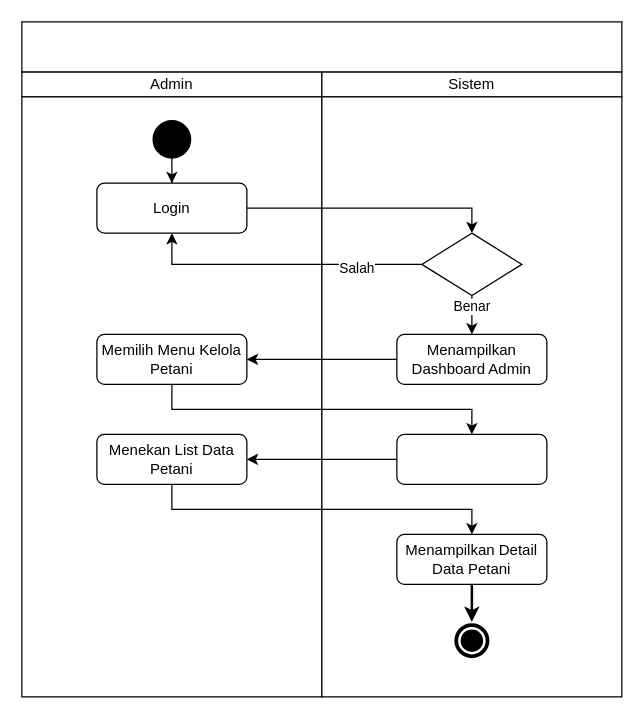
This 644x719 diagram has some shape labels left out. The shapes that lost their labels are listed below. From the top down, each one's box as (x1, y1, x2, y2) in pixels, then its label:
(21, 21, 622, 72): DETAIL DATA PETANI
(421, 232, 522, 296): Verifikasi
(396, 433, 547, 484): Menampilkan Halaman Petani
